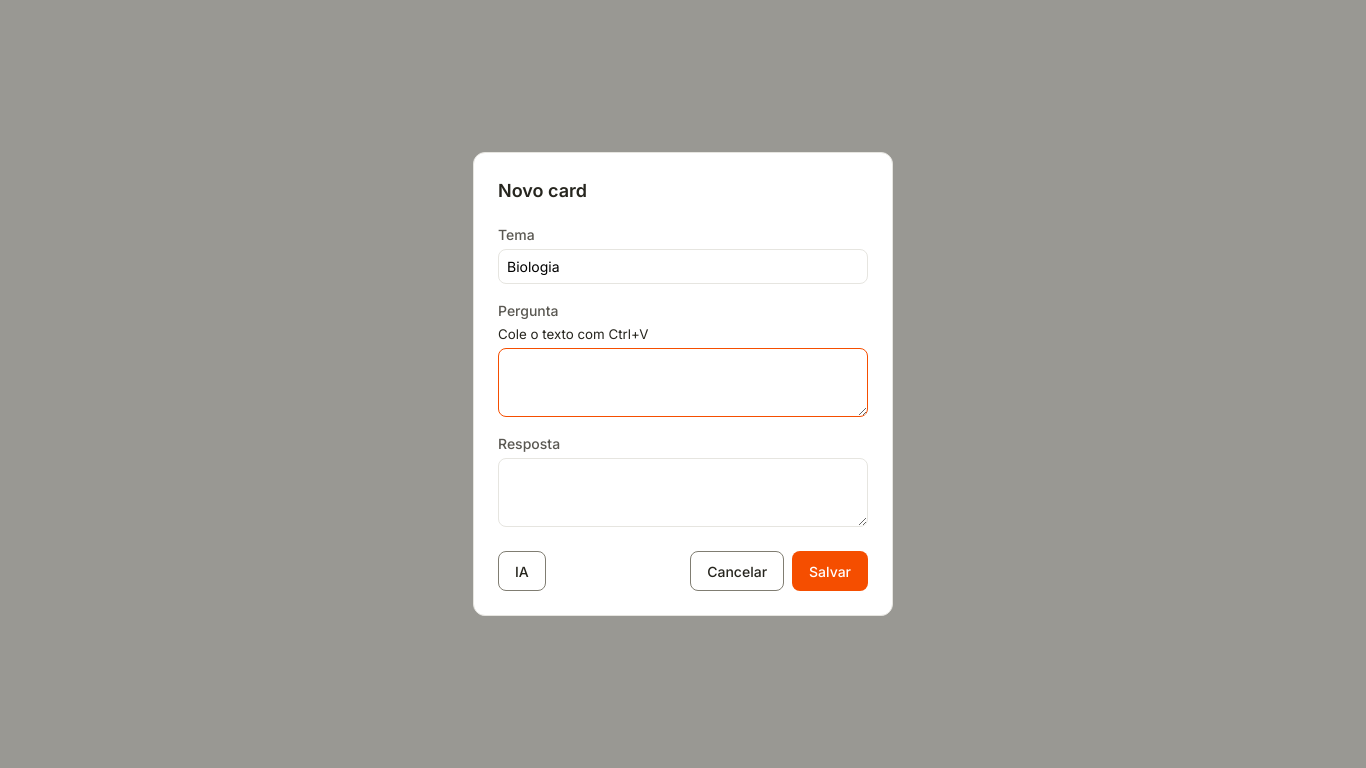
Test: CardFormModal: botão IA › gera a pergunta com o texto do clipboard e depois a resposta com o texto da pergunta
The width and height of the screenshot is (1366, 768).
Click the button "IA" at (522, 572), box 498,552 -> 546,592
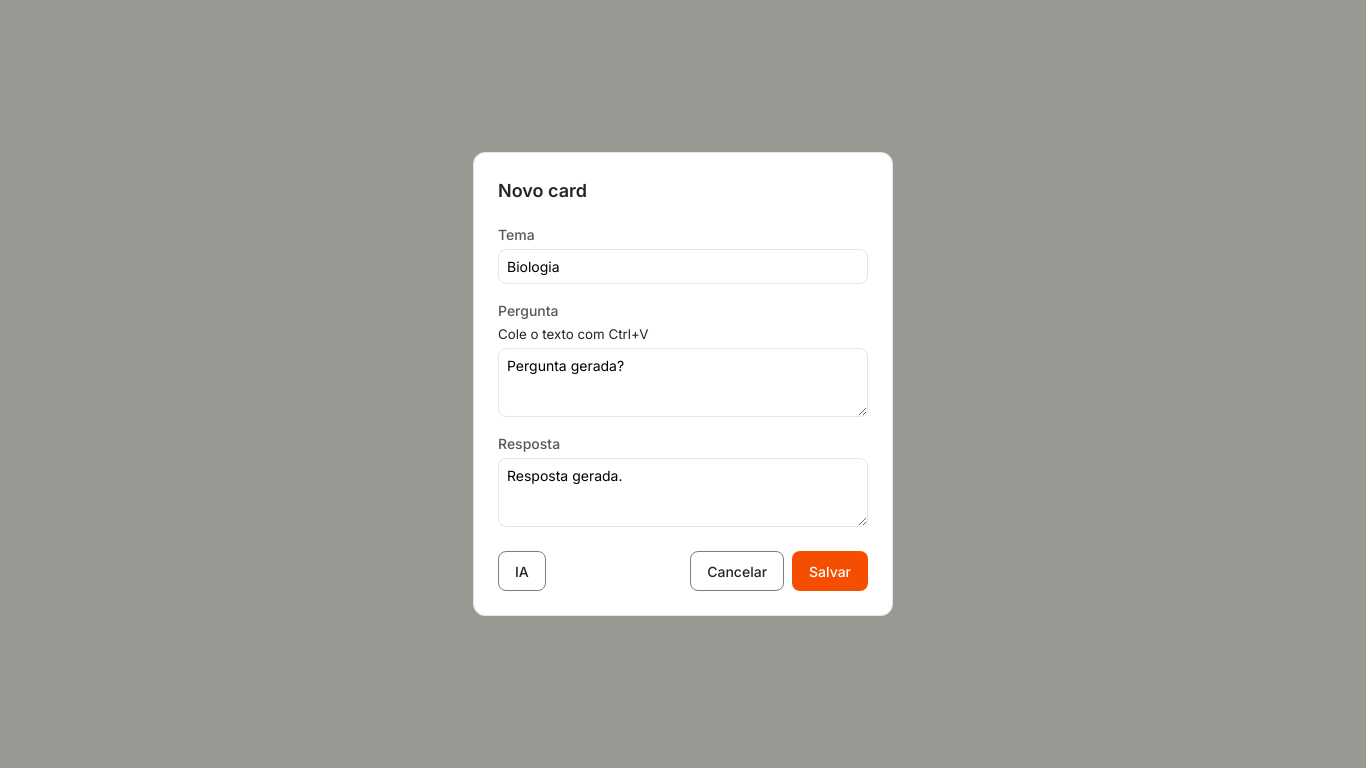
Expected: the text box labelled "Resposta" holds "Resposta gerada.", 498,458 -> 868,528
Expected: the text box labelled "Pergunta" holds "Pergunta gerada?", 498,348 -> 868,418
